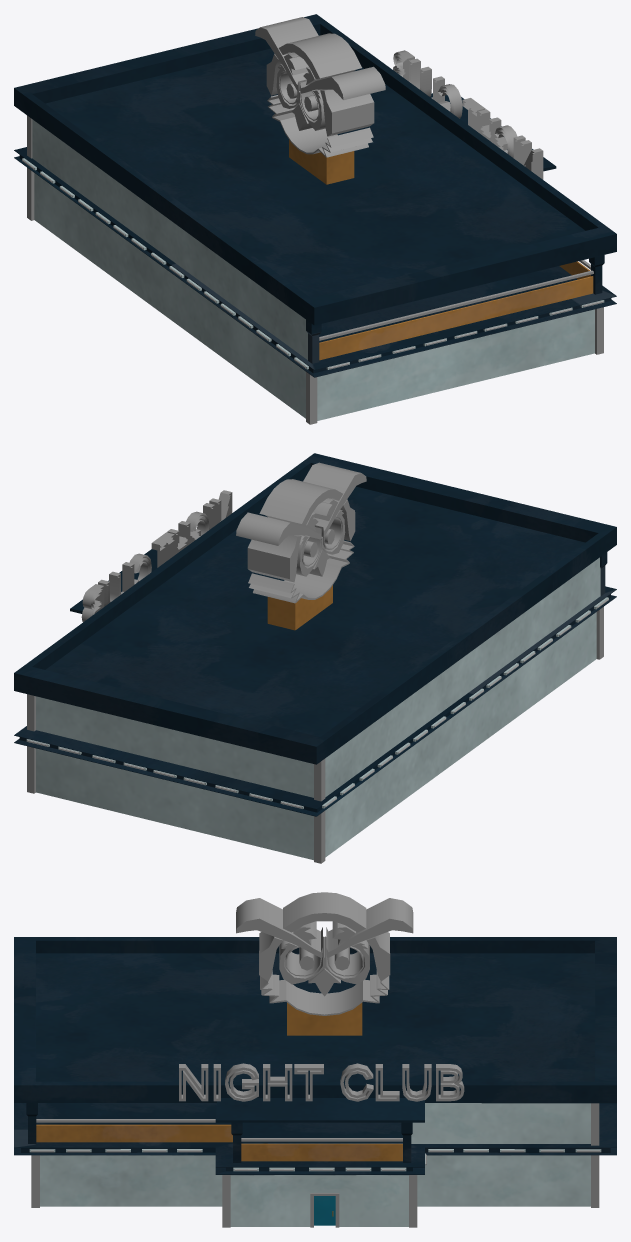
Rendered from SM_Tekno_Building.fbx.
3 views of the same model, one above another, from view 1: azimuth 30°, elevation 25°; view 2: azimuth 150°, elevation 25°; view 3: azimuth 270°, elevation 25° (orthographic).
Visible parts, largest first — view 1: Object001; view 2: Object001; view 3: Object001.
Boxes of the visible parts, x1,y1,x2,y2 form: Object001: (14,14,616,424); Object001: (14,453,616,863); Object001: (14,892,616,1227).
Bounding box in the file's own units: 68.77 × 45.46 × 104.
2 materials, 1 textured.
